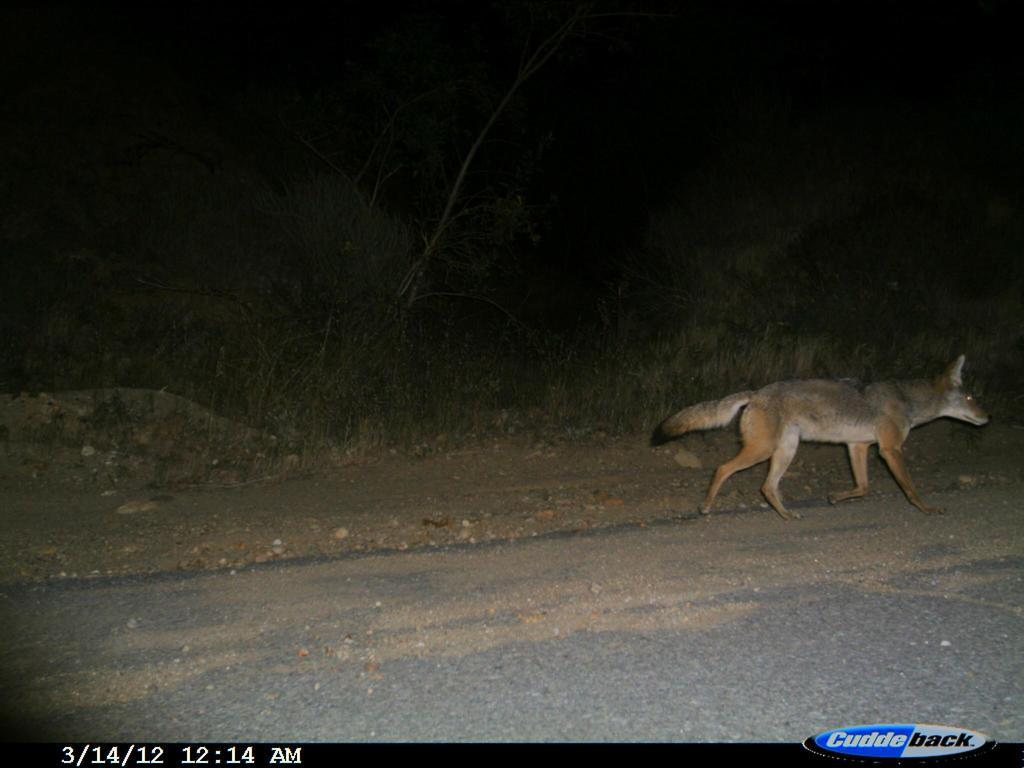coyote: (647, 346, 999, 521)
